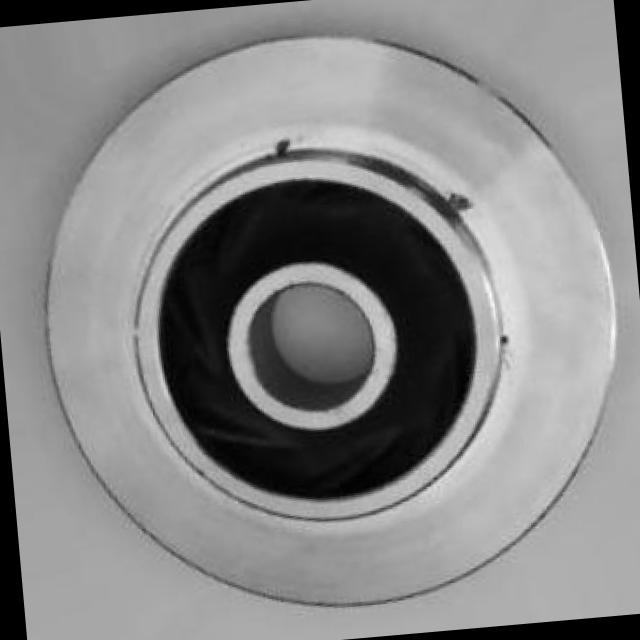Defect: (438, 182, 482, 216)
